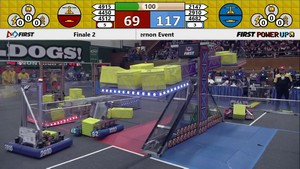cube: (102, 66, 126, 87), (159, 65, 183, 85), (140, 71, 165, 90), (80, 118, 103, 137), (117, 70, 138, 88), (232, 102, 246, 119), (39, 92, 56, 106), (220, 53, 238, 66), (52, 106, 66, 120), (122, 106, 135, 121), (69, 87, 86, 97), (111, 106, 122, 119)
